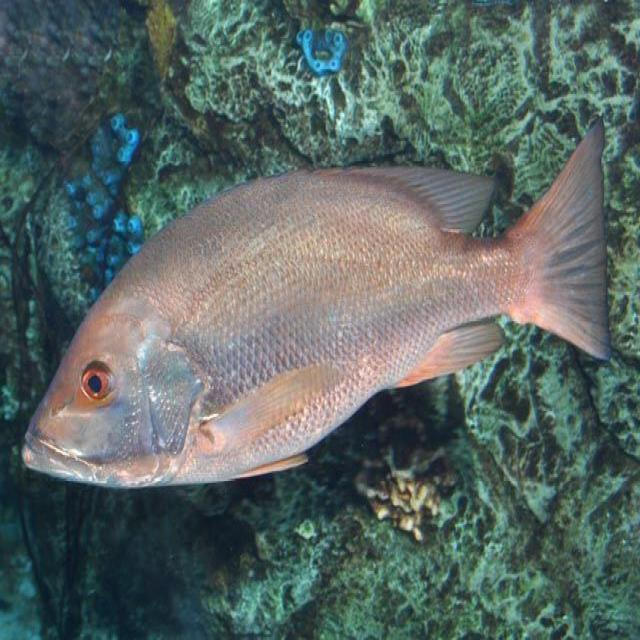ikan: (20, 112, 612, 490)
